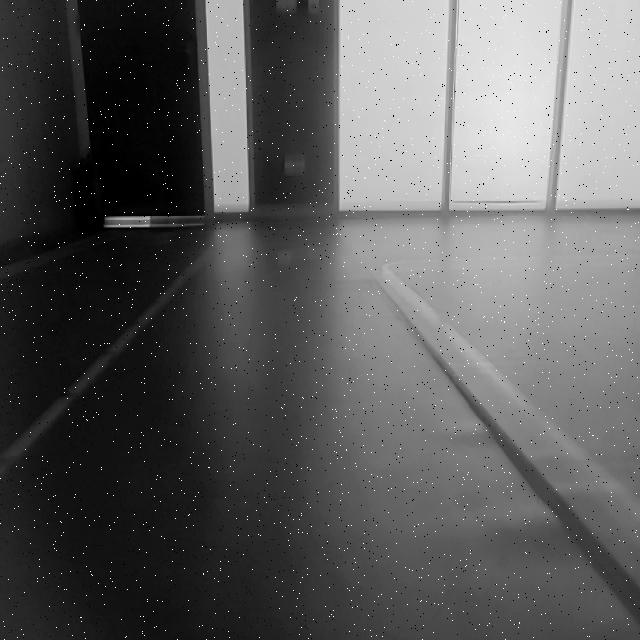left_lane: (0, 239, 221, 481)
right_lane: (391, 271, 640, 548)
